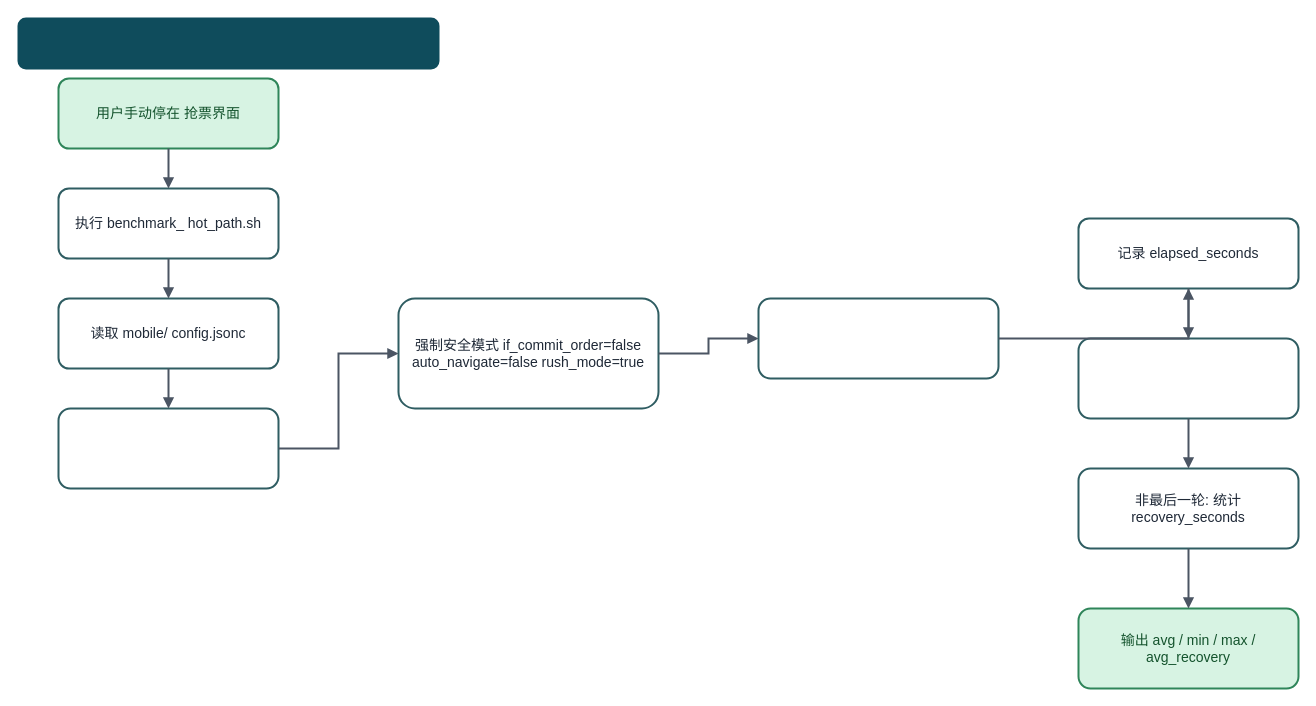
Some shapes in this 1316 by 706 pixel diagram are drawn without their labels. Each missing label, with the box of its shape:
Benchmark 压测: (17, 17, 439, 69)
命令行临时覆盖 price / index / city / date: (57, 407, 279, 489)
记录 final_state / submit_button_ready: (1077, 337, 1299, 419)
连续执行 N 轮 run_ticket_grabbing: (757, 297, 999, 379)
